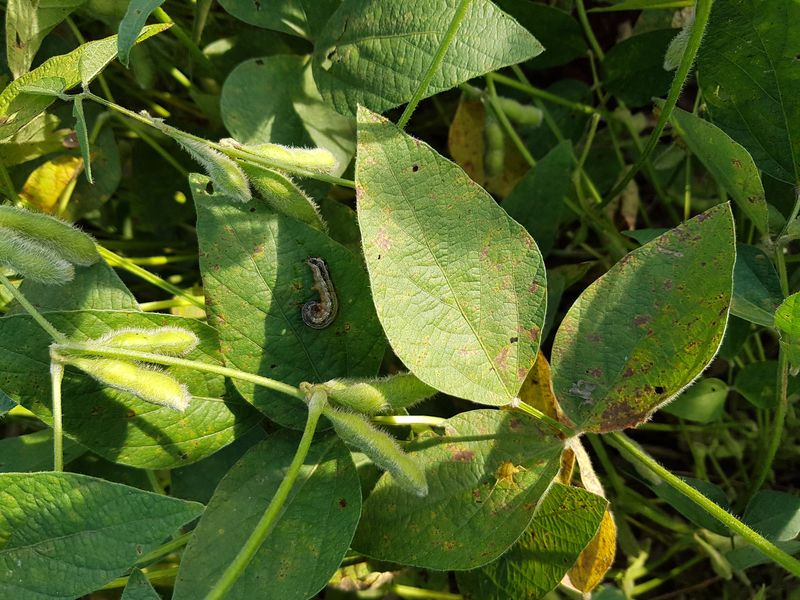Euschistus_heros_adulto: (53, 121, 95, 157)
Spodoptera_albula: (282, 248, 355, 336)
